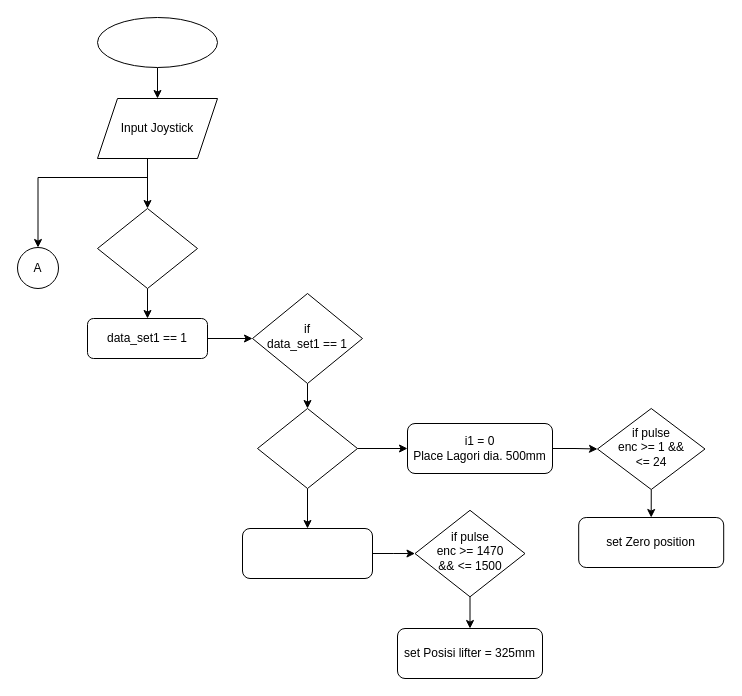
This 742x696 diagram has some shape labels left out. Here are the shapes that lost their labels. From the top down, the box of each, then its label:
(96, 16, 218, 68): Start
(96, 208, 198, 288): If button[1]
(256, 408, 358, 488): if i1 == 0
(242, 528, 372, 578): i1 = 1 Grip Lagori dia. 500mm
